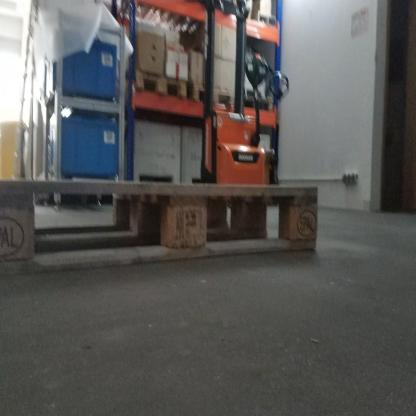BoxFace: (3, 174, 323, 281)
